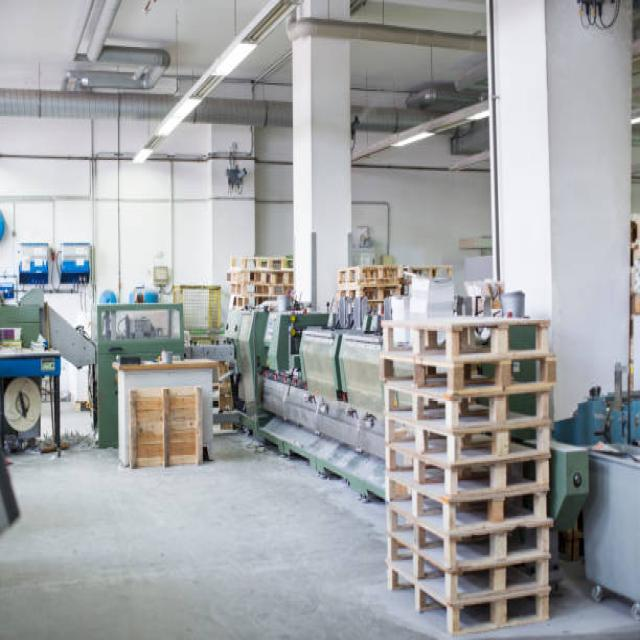Wooden-Pallets: (371, 555, 560, 640), (376, 499, 555, 573), (379, 439, 558, 503), (373, 384, 554, 441), (375, 350, 558, 401), (376, 311, 552, 361), (121, 378, 205, 469)
